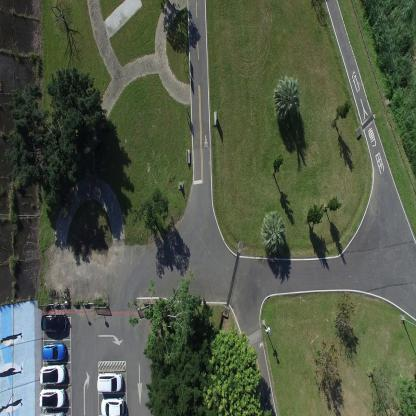car: (96, 372, 124, 394), (38, 386, 65, 408), (39, 363, 66, 385), (40, 312, 68, 332), (41, 342, 66, 362), (100, 397, 124, 415), (40, 408, 65, 416)
